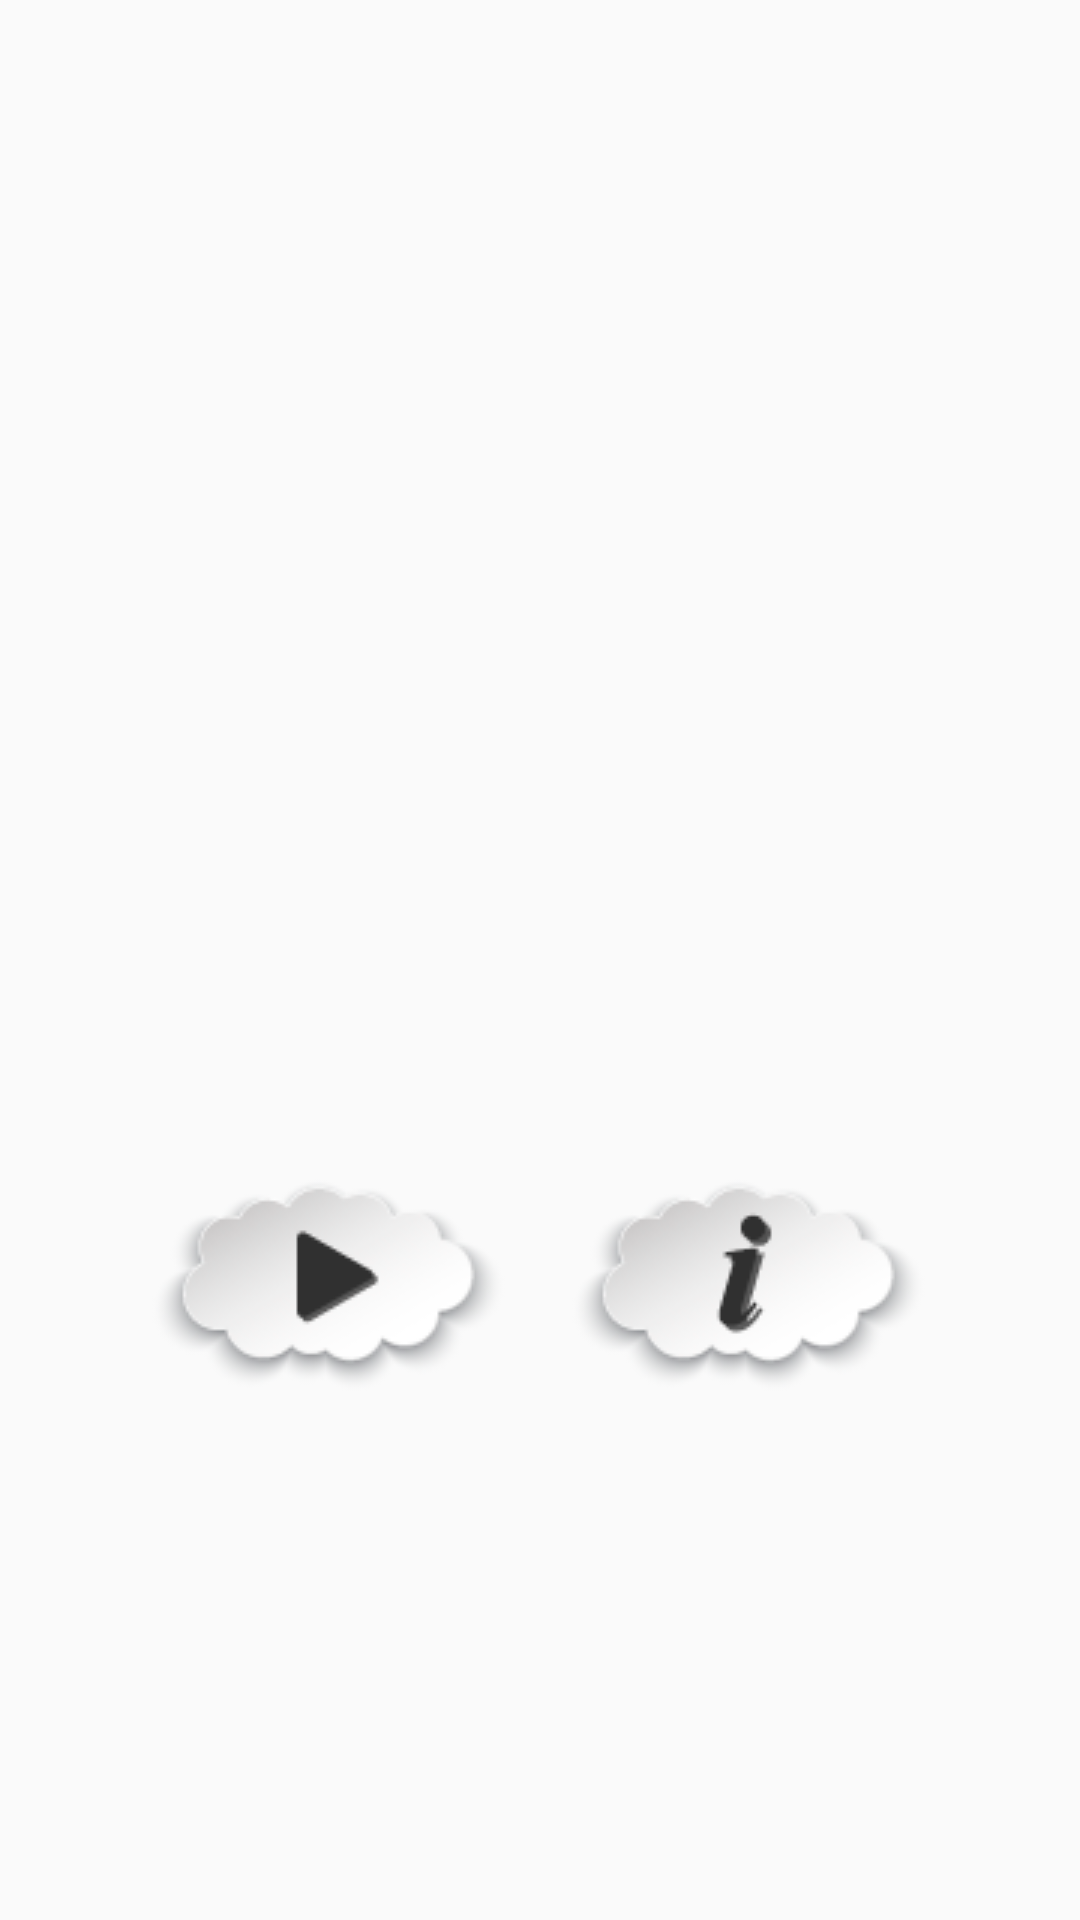

Where to tap for icons on this 1080 × 1920 app screen, as [x,y]:
about: [748,1282]
play: [328,1282]
